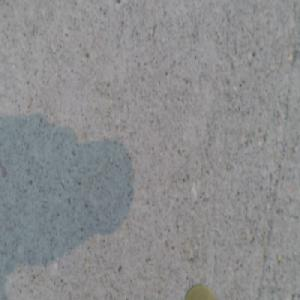Washer: (182, 286, 217, 300)
